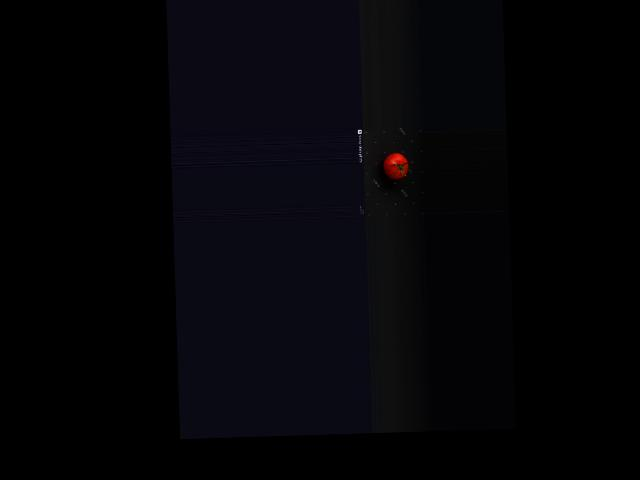tomato: (383, 152, 408, 180)
